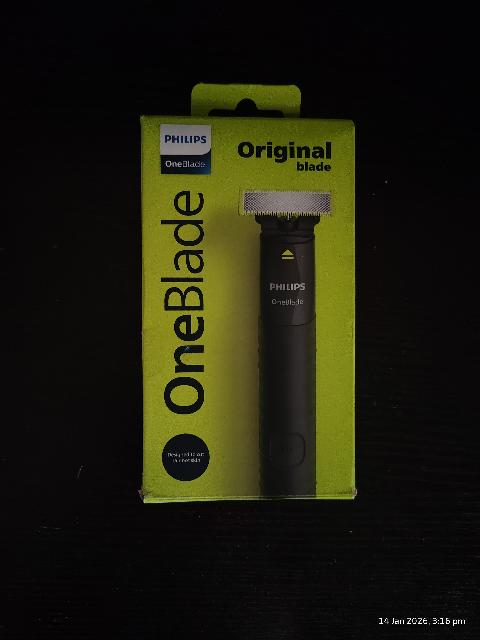phillips oneblade: (141, 77, 359, 506)
